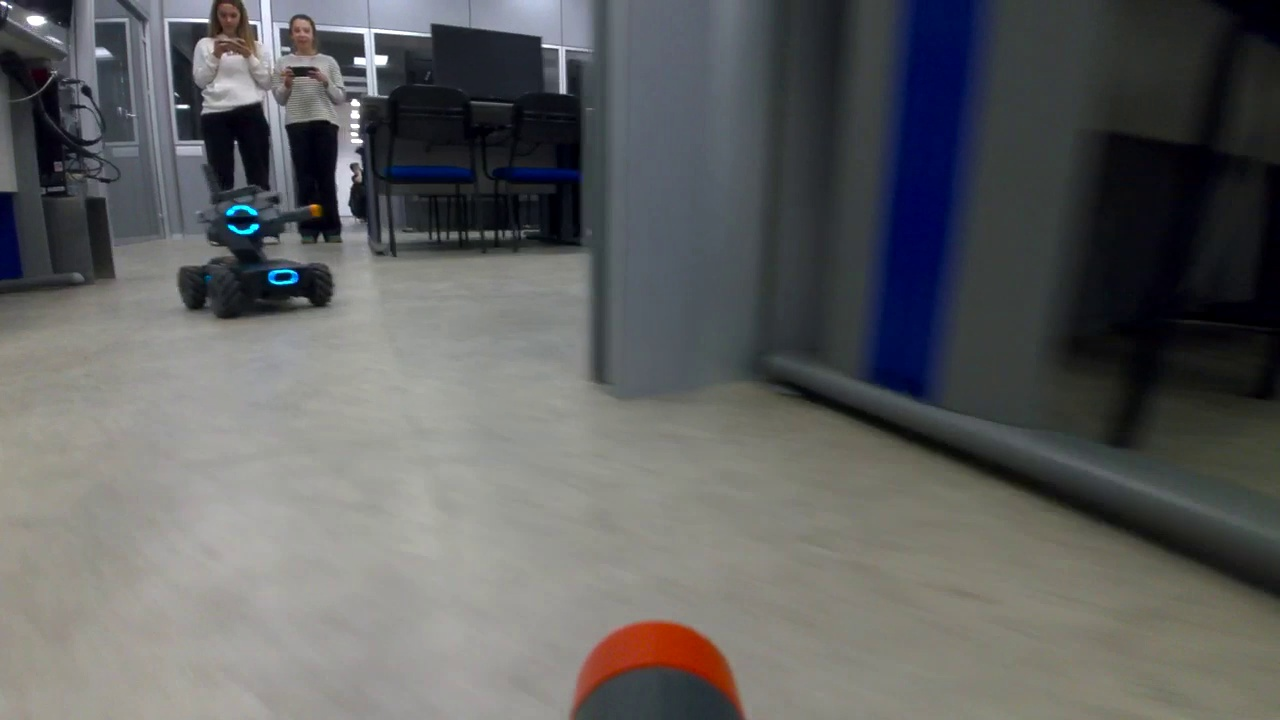robot: (175, 184, 335, 322)
